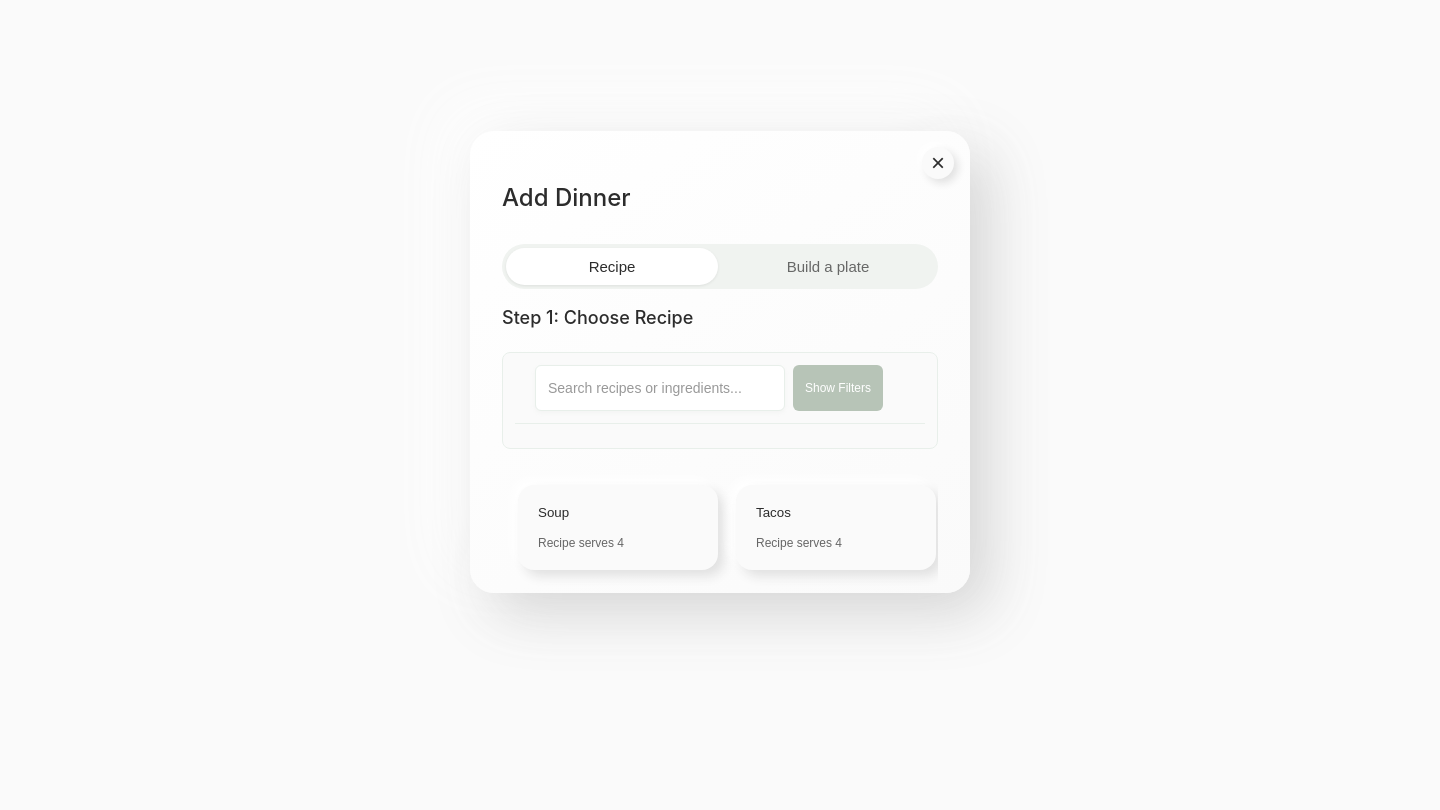
building a plate › a plate goes through day selection like a recipe, for N people
Later steps or results of the test are not shown.
Step 1. Click the tab "Build a plate" → {"x": 828, "y": 266}, box [722, 248, 934, 285]
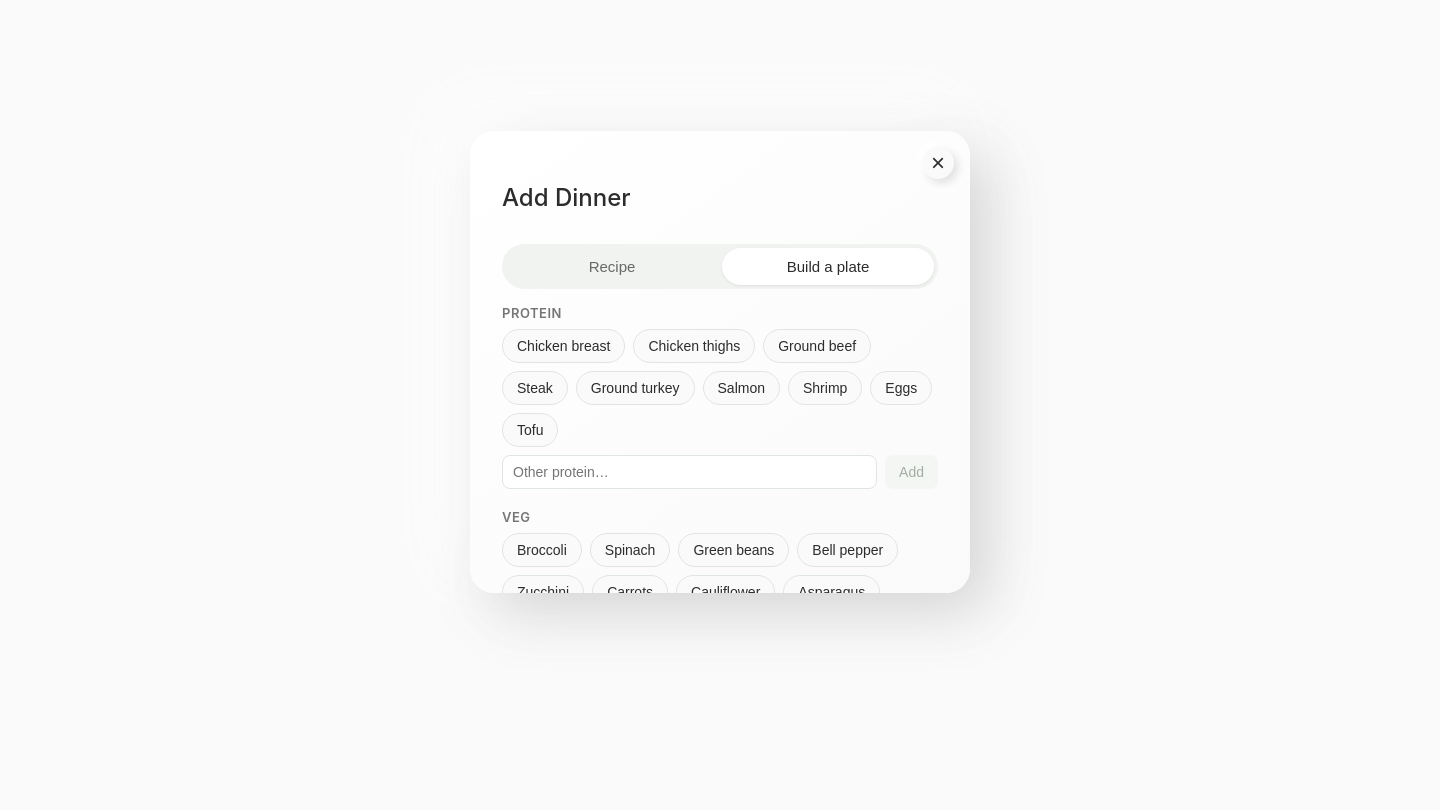
Expected: the button "Tacos" is gone
Step 2. Click the button "Salmon" → {"x": 741, "y": 388}, box [702, 371, 780, 405]
(page scrolled)
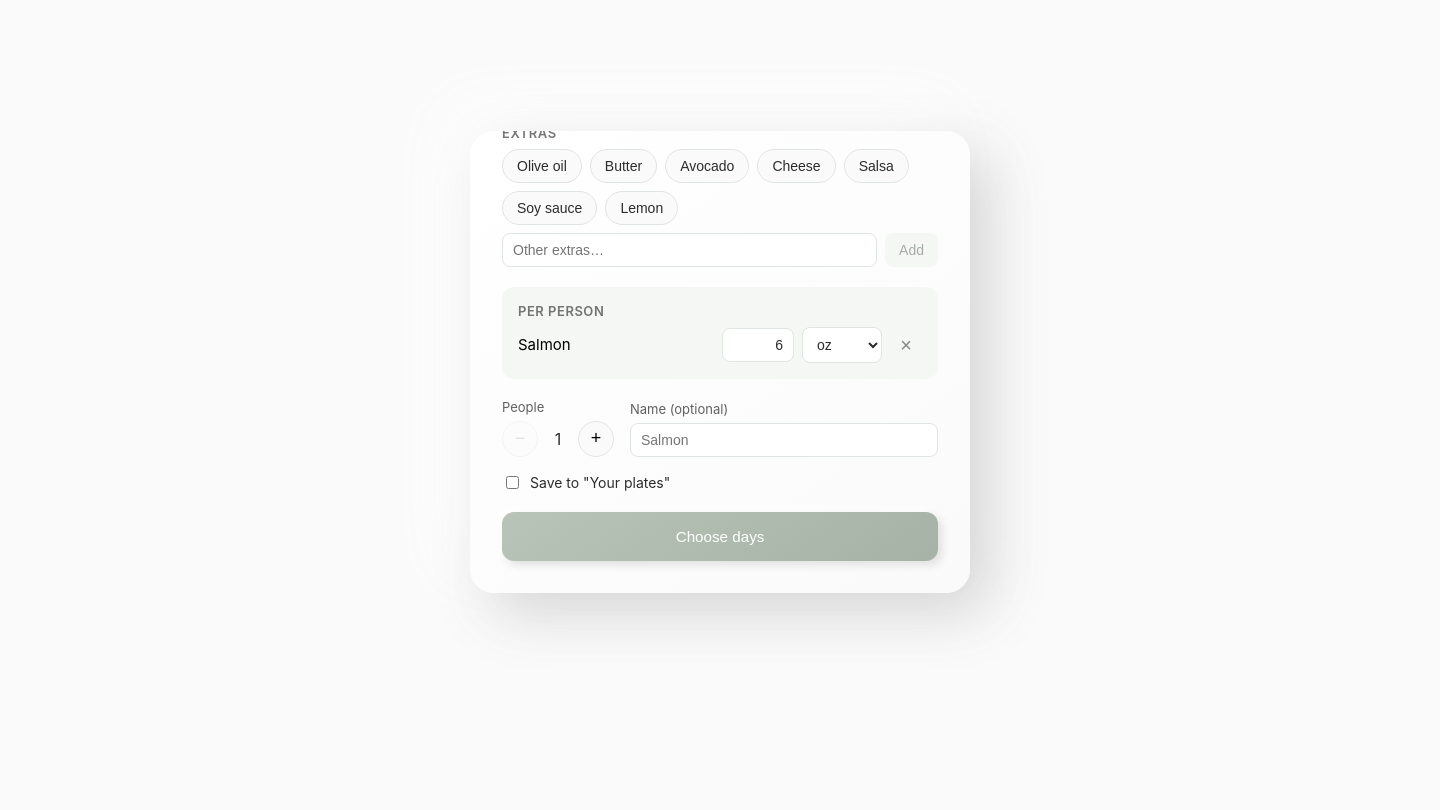
Step 3. Click the button named "More people" → {"x": 596, "y": 439}, box [578, 421, 614, 457]
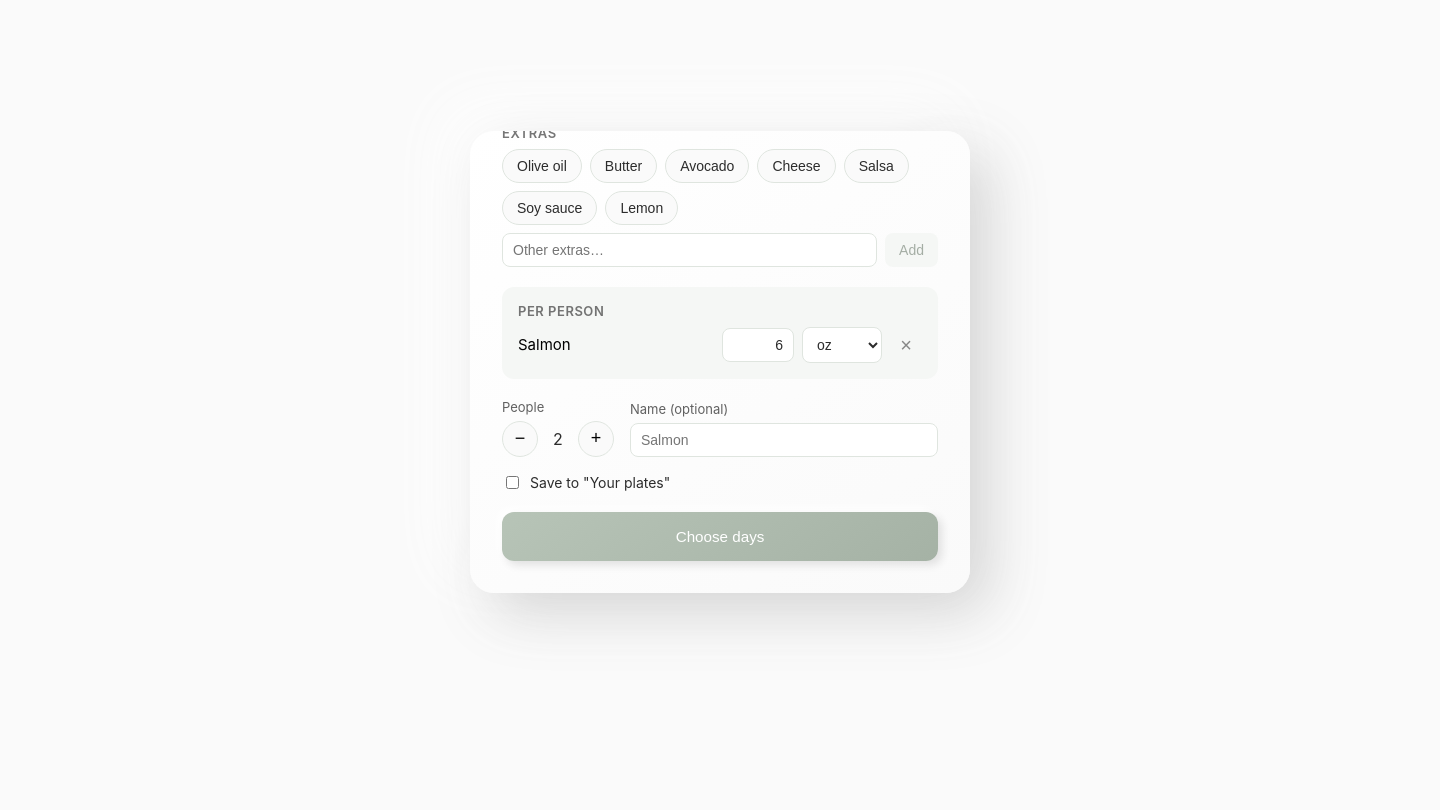
Step 4. Click the button "Choose days" → {"x": 720, "y": 536}, box [502, 512, 938, 561]
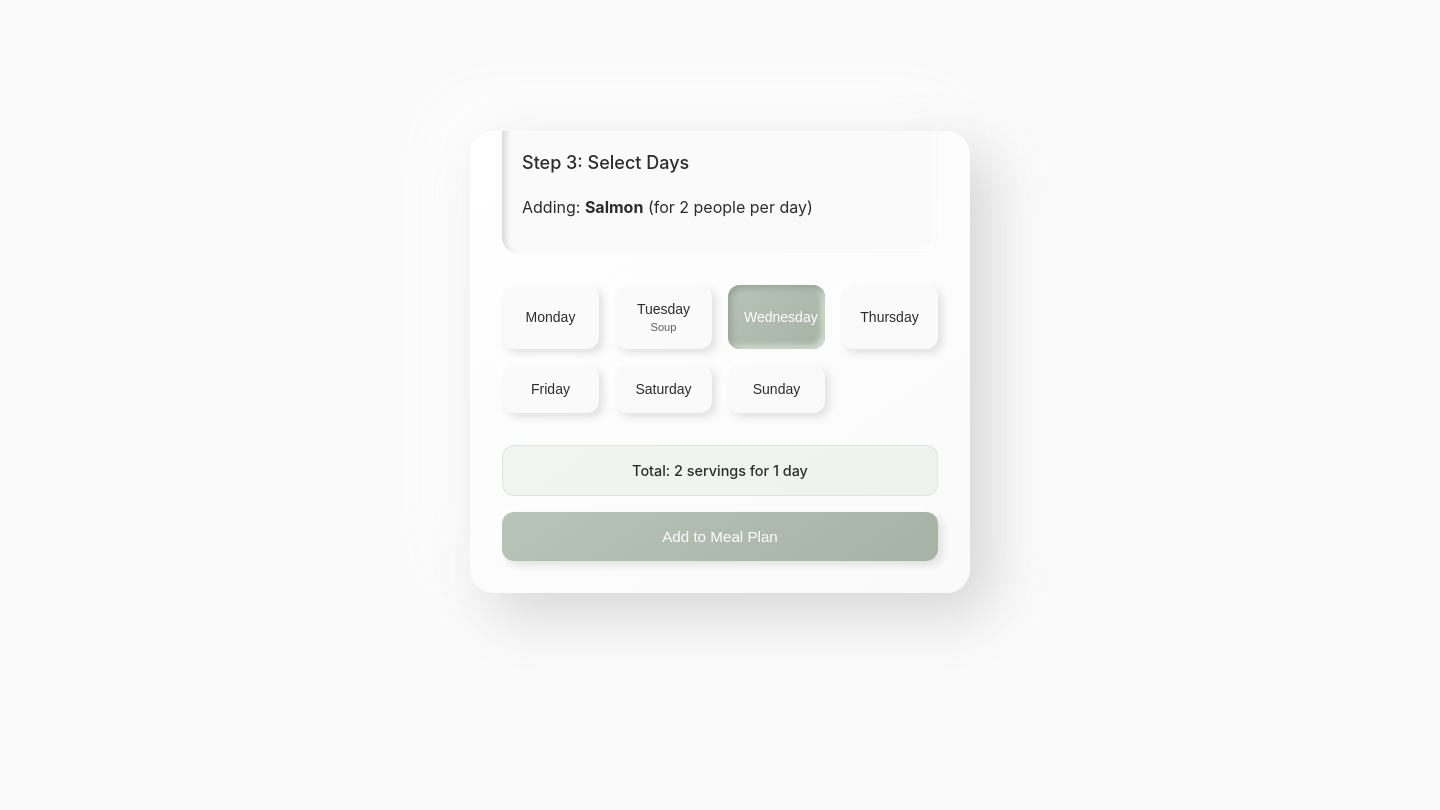
Expected: the text "Adding: Salmon (for 2 people per day)" is shown, [522, 197, 813, 217]
Step 5. Click the button "Tuesday Soup" → {"x": 664, "y": 317}, box [615, 285, 712, 349]
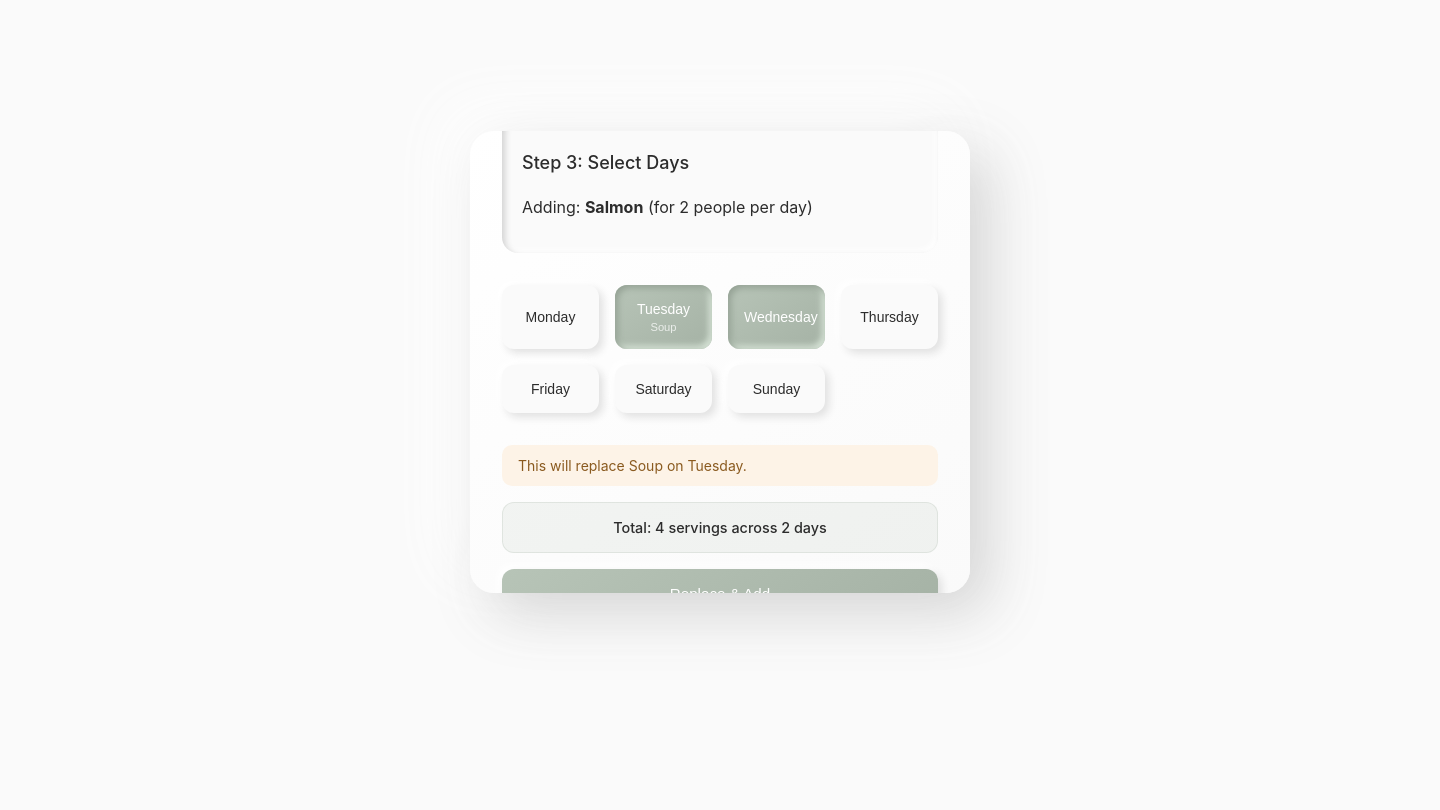
Expected: the message reads "This will replace Soup on Tuesday.", [502, 445, 938, 486]
